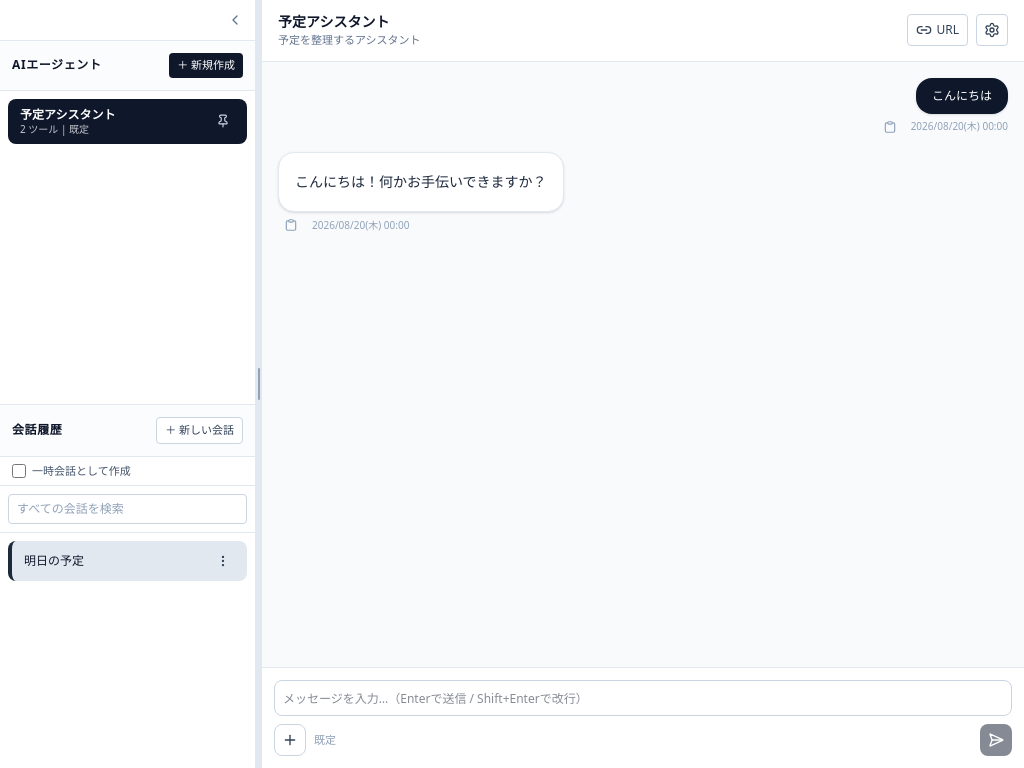
Test: AgentsPage › sends message and handles streaming and HITL proposal link
Check: the text "こんにちは！何かお手伝いできますか？" is shown, box [295, 170, 547, 193]
In the text box with placeholder "メッセージを入力…（Enterで送信 / Shift+Enterで改行）": (643, 698) [274, 680, 1012, 716], type "明日10時にミーティングを入れて"
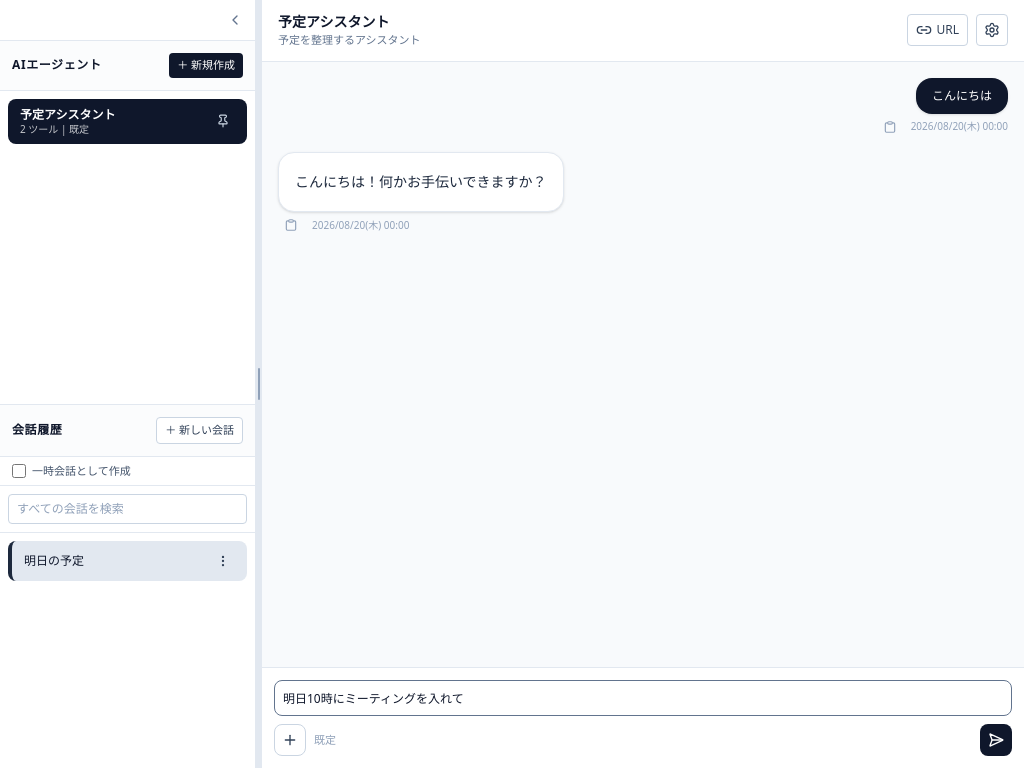
Click the button named "送信": (996, 740) [980, 724, 1012, 756]
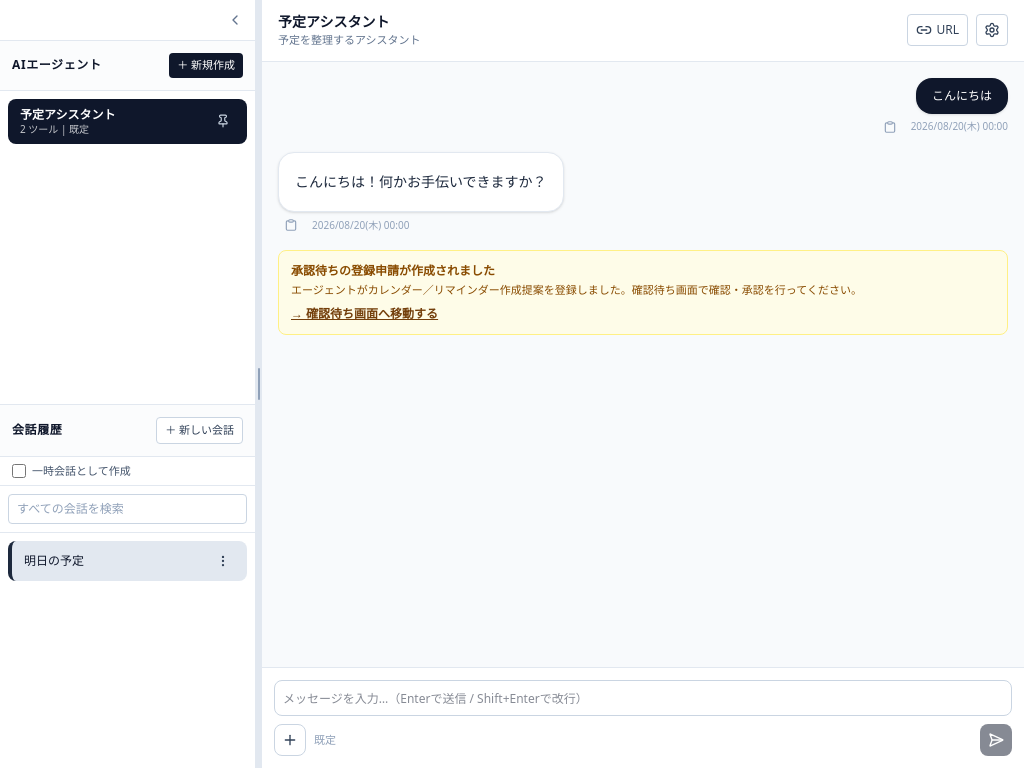
Check: the text "承認待ちの登録申請が作成されました" is shown, box [291, 262, 495, 279]
Check: the link "→ 確認待ち画面へ移動する" is shown, box [291, 306, 438, 322]
